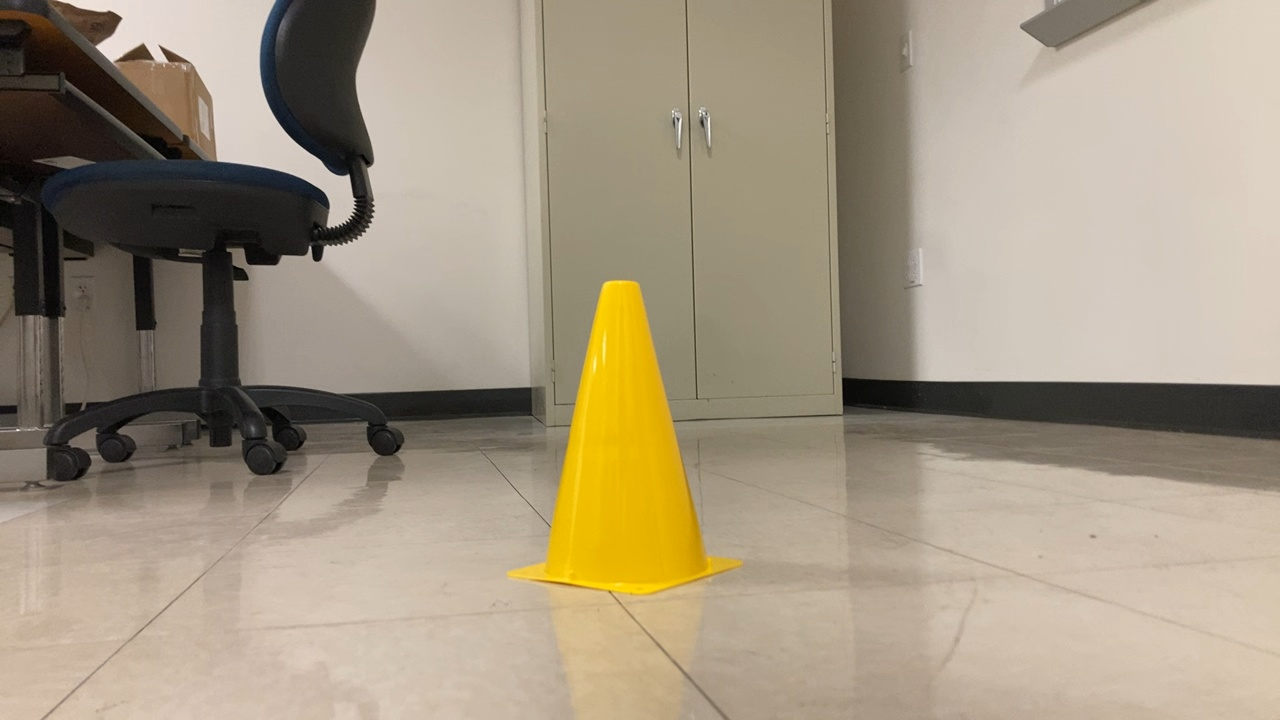yellow_cone: (493, 275, 749, 600)
